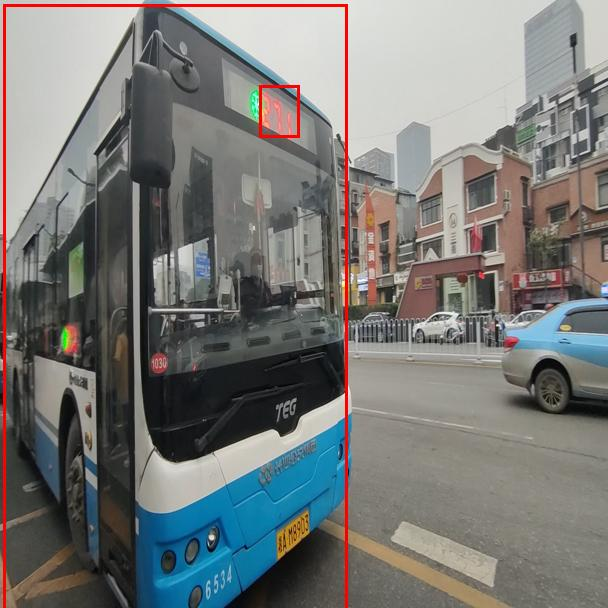bus: (3, 4, 347, 608)
screen: (259, 85, 299, 137)
